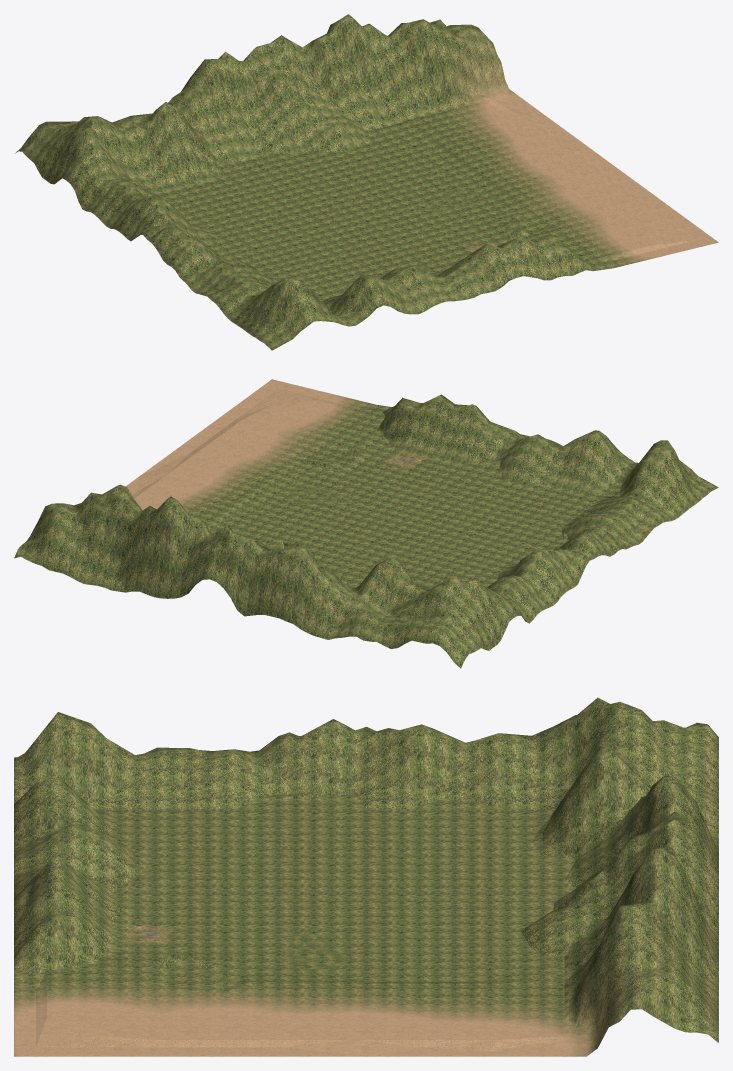
The picture shows the model from 3 angles, top to bottom: view 1: azimuth 30°, elevation 25°; view 2: azimuth 150°, elevation 25°; view 3: azimuth 270°, elevation 25°; orthographic projection. The views are drawn at different scales.
Parts seen in each view (by area): view 1: Mesh; view 2: Mesh; view 3: Mesh.
Part boxes in pixels (x1=…): Mesh: x1=15, y1=14, x2=718, y2=350; Mesh: x1=14, y1=379, x2=718, y2=668; Mesh: x1=14, y1=697, x2=718, y2=1056.
Bounding box in the file's own units: 120 × 22.23 × 120.
1 material, 1 textured.
